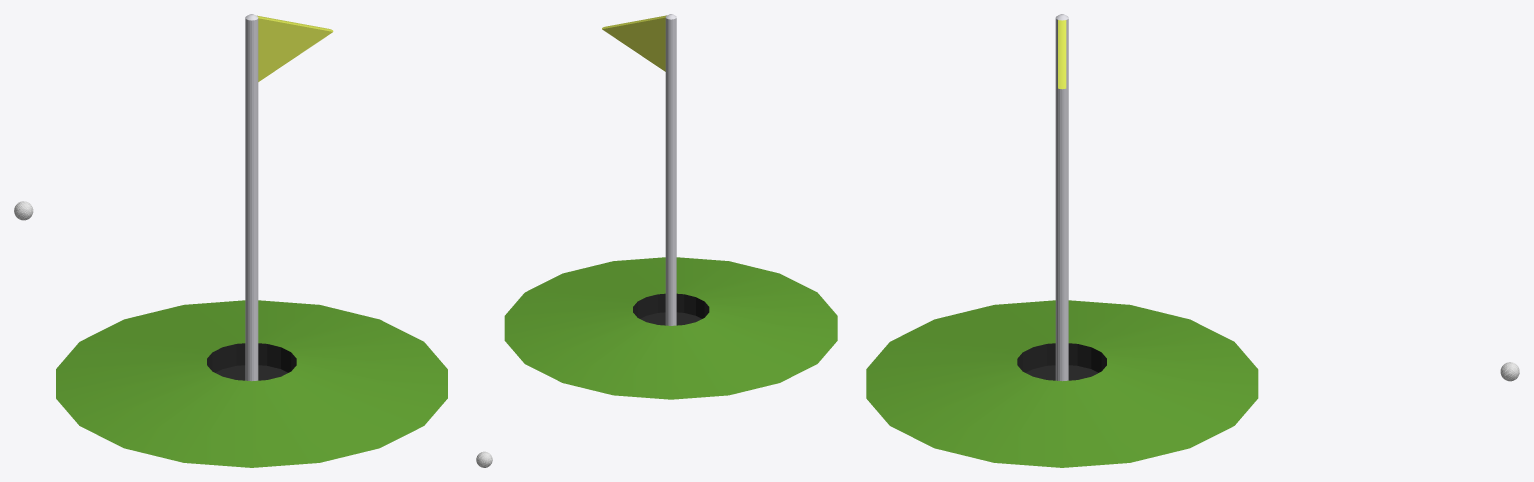
The model's file is Golf Anim.fbx.
3 views of the same model, side by side, from view 1: azimuth 30°, elevation 25°; view 2: azimuth 150°, elevation 25°; view 3: azimuth 270°, elevation 25° (orthographic). The views are drawn at different scales.
Visible parts, largest first — view 1: Cylinder001, Cylinder002; view 2: Cylinder001, Cylinder002; view 3: Cylinder001, Cylinder002.
Boxes of the visible parts, x1,y1,x2,y2 form: Cylinder001: [56, 300, 447, 467]; Cylinder002: [245, 14, 333, 381]; Cylinder001: [504, 257, 837, 399]; Cylinder002: [602, 14, 676, 325]; Cylinder001: [866, 300, 1258, 467]; Cylinder002: [1055, 14, 1068, 381].
Bounding box in the file's own units: 2 × 2.05 × 3.29.
